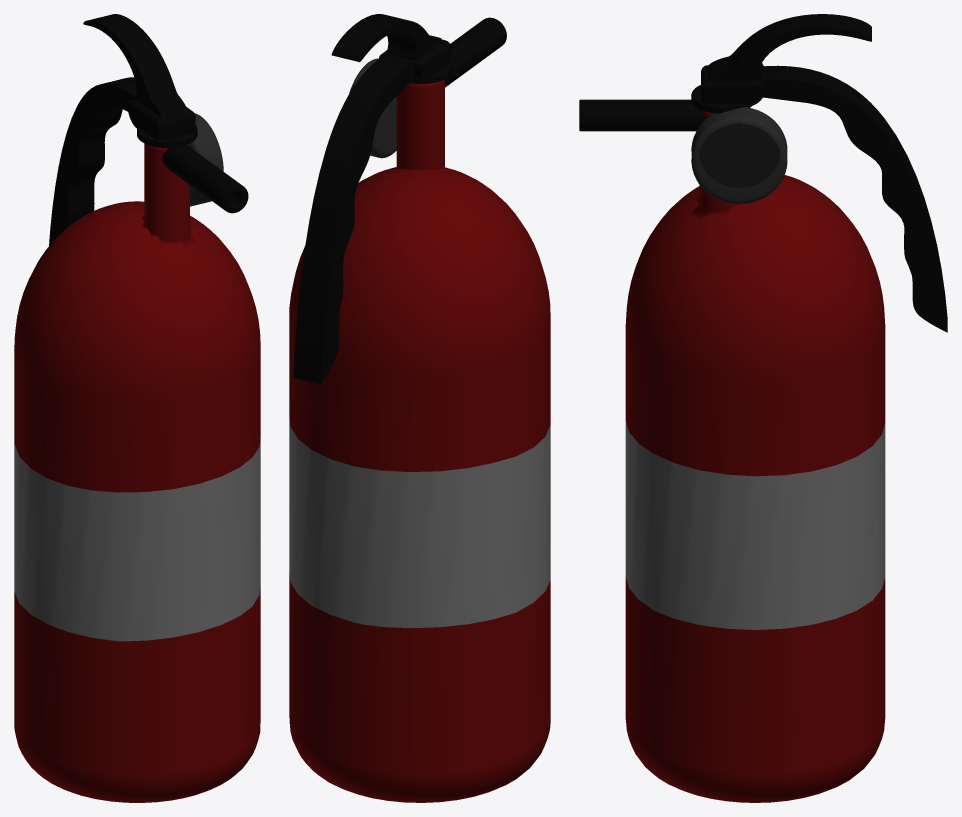
File: Fire Extinguisher.obj
3 views of the same model, side by side, from view 1: azimuth 30°, elevation 25°; view 2: azimuth 150°, elevation 25°; view 3: azimuth 270°, elevation 25° (orthographic). The views are drawn at different scales.
Parts seen in each view (by area): view 1: Body, Body10, Body11, Nozzle, Body8, Guage, Body7; view 2: Body, Body10, Body11, Nozzle, Guage, Body8; view 3: Body, Body10, Guage, Body11, Nozzle, Body8.
Part boxes in pixels (box(x1,y1,x2,y2)): Body: box(14, 143, 260, 802); Body10: box(49, 77, 136, 245); Body11: box(83, 14, 187, 117); Nozzle: box(162, 145, 248, 213); Body8: box(127, 99, 195, 140); Guage: box(190, 113, 223, 206); Body7: box(137, 125, 197, 147); Body: box(289, 79, 550, 802); Body10: box(293, 53, 415, 384); Body11: box(331, 14, 442, 62); Nozzle: box(445, 17, 506, 87); Guage: box(349, 58, 396, 158); Body8: box(379, 39, 450, 81); Body: box(625, 111, 885, 802); Body10: box(760, 65, 947, 332); Guage: box(691, 107, 787, 203); Body11: box(708, 14, 871, 80); Nozzle: box(579, 99, 705, 131); Body8: box(701, 65, 764, 106).
Bounding box in the file's own units: 8.1 × 25.76 × 11.5.
